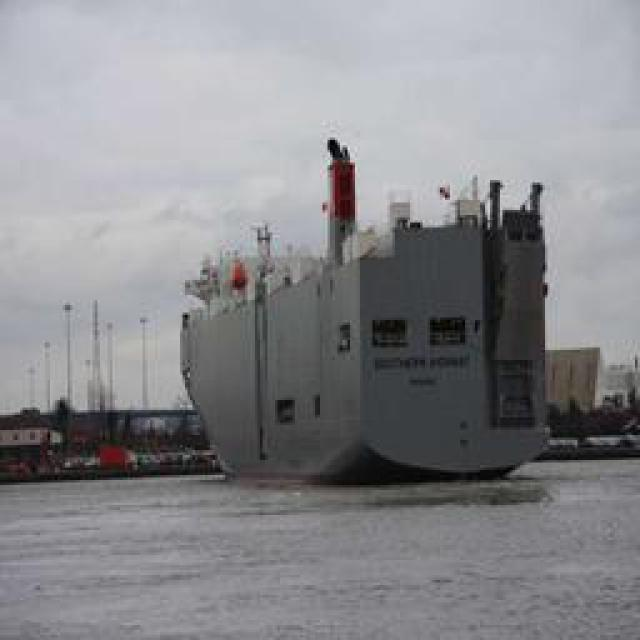Ship: (174, 132, 574, 495)
